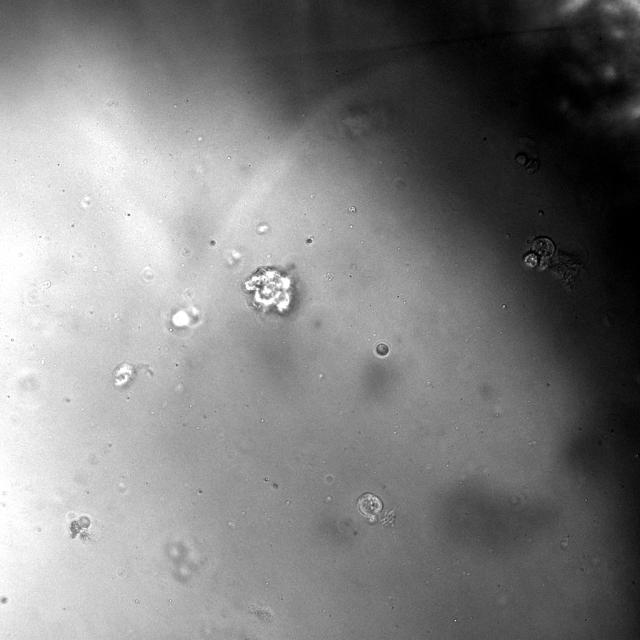organoid: (522, 236, 585, 289), (242, 266, 294, 315), (357, 492, 383, 523), (69, 515, 96, 542), (170, 306, 199, 329), (113, 363, 135, 386), (375, 341, 390, 358)
